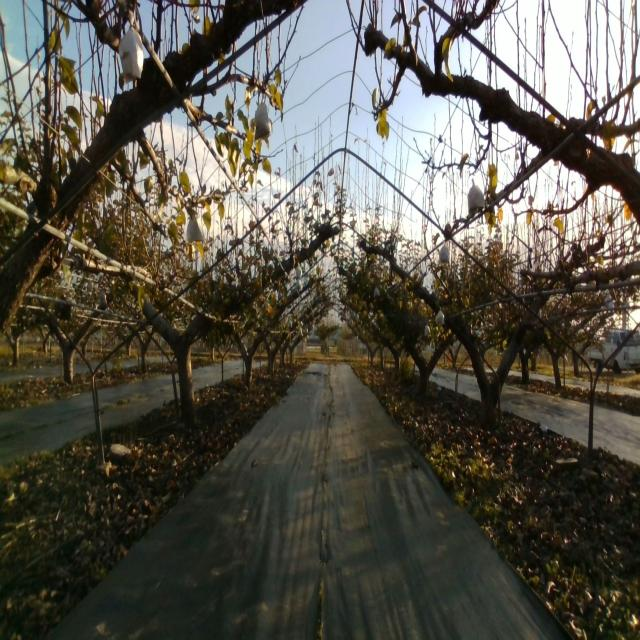pearbags: (118, 9, 144, 84), (253, 102, 272, 142), (185, 210, 206, 244), (468, 177, 486, 211), (438, 240, 450, 262)
